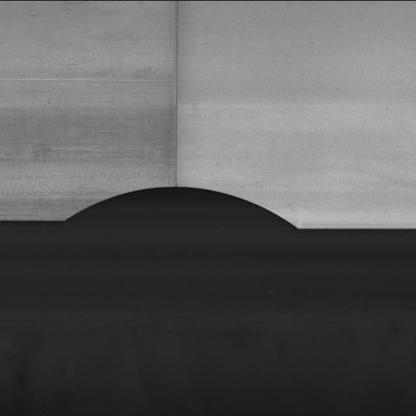crescent_gap: (49, 173, 305, 249)
welding_line: (156, 2, 199, 194)
